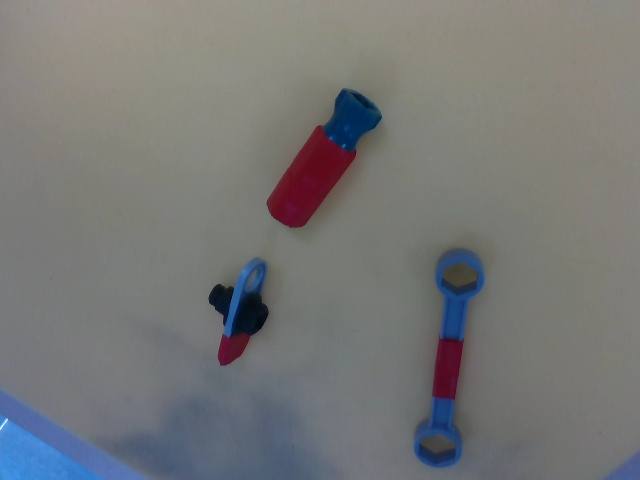part_1_good: (205, 255, 272, 371)
